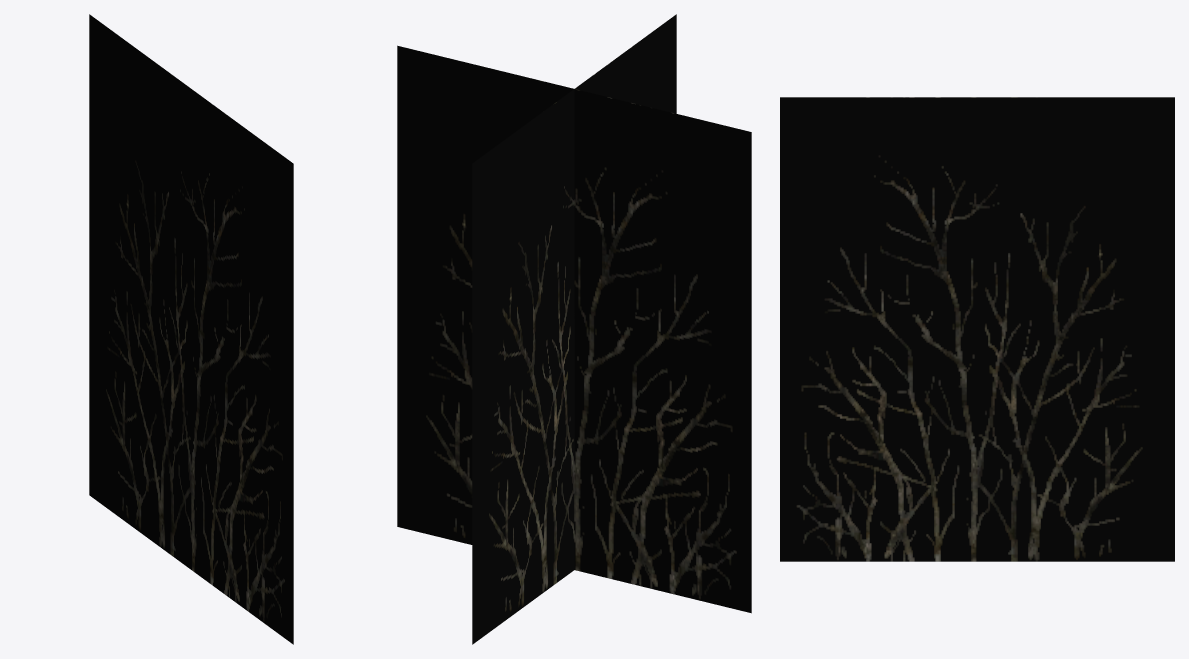
The model's file is smallBush02.FBX.
The picture shows the model from 3 angles, left to right: view 1: azimuth 30°, elevation 25°; view 2: azimuth 150°, elevation 25°; view 3: azimuth 270°, elevation 25°; orthographic projection. The views are drawn at different scales.
Visible parts, largest first — view 1: smallBush02; view 2: smallBush02; view 3: smallBush02.
Part boxes in pixels (<box>): smallBush02: <box>89,14,293,644</box>; smallBush02: <box>397,14,751,644</box>; smallBush02: <box>780,97,1174,561</box>.
Size of the model in its own units: 59.06 by 76.6 by 59.06.
Materials: 1 (1 with a texture image).
